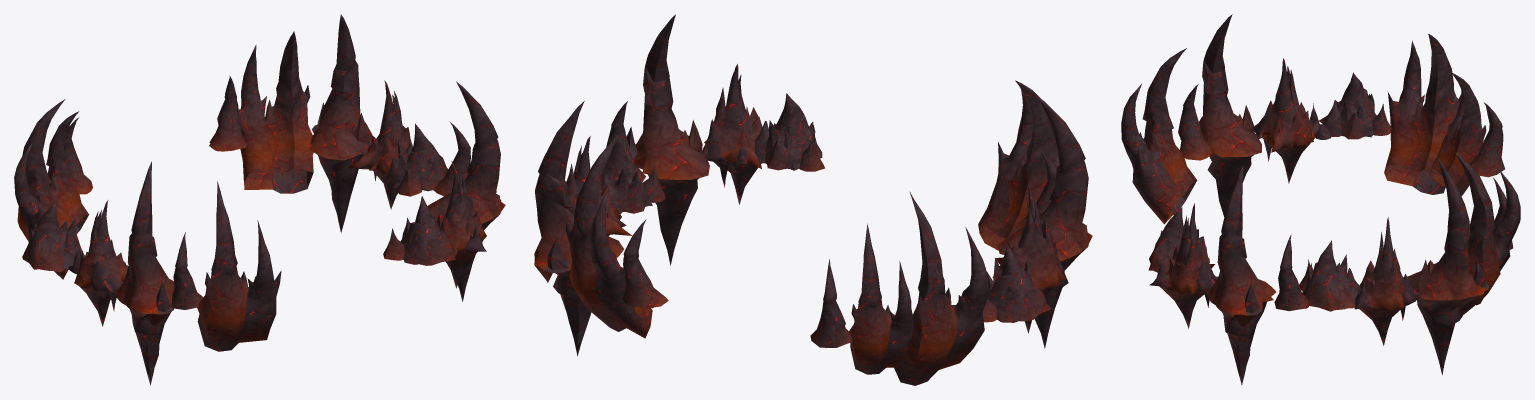
The model's file is Dungeons_03_02_06.FBX.
3 renders of one model, left to right at view 1: azimuth 30°, elevation 25°; view 2: azimuth 150°, elevation 25°; view 3: azimuth 270°, elevation 25°, orthographic. The views are drawn at different scales.
Parts seen in each view (by area): view 1: Object359; view 2: Object359; view 3: Object359.
Part boxes in pixels (x1=…): Object359: x1=14, y1=14, x2=505, y2=385; Object359: x1=534, y1=14, x2=1092, y2=385; Object359: x1=1121, y1=14, x2=1520, y2=385.
Bounding box in the file's own units: 647 × 326 × 537.
